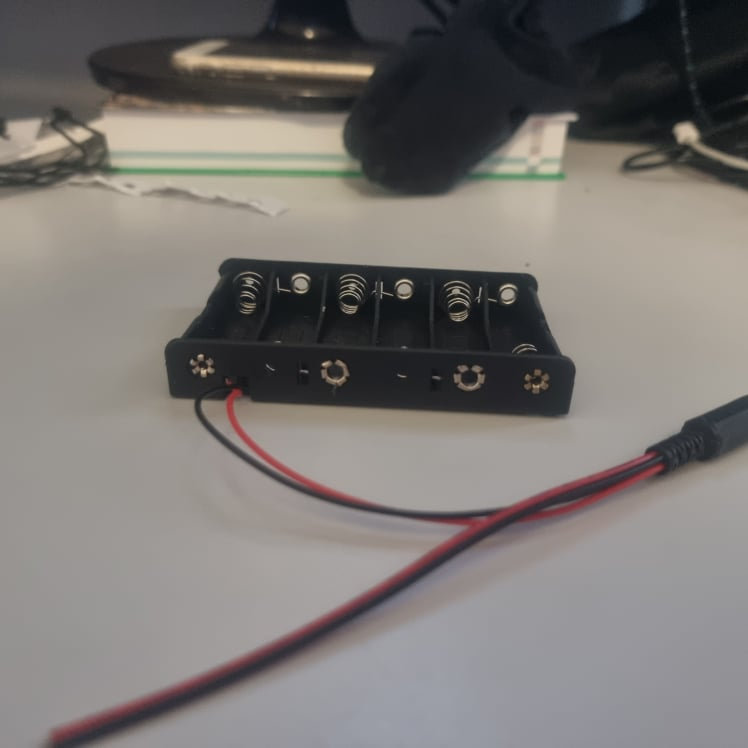BATTERY BOX: (164, 254, 577, 425)
